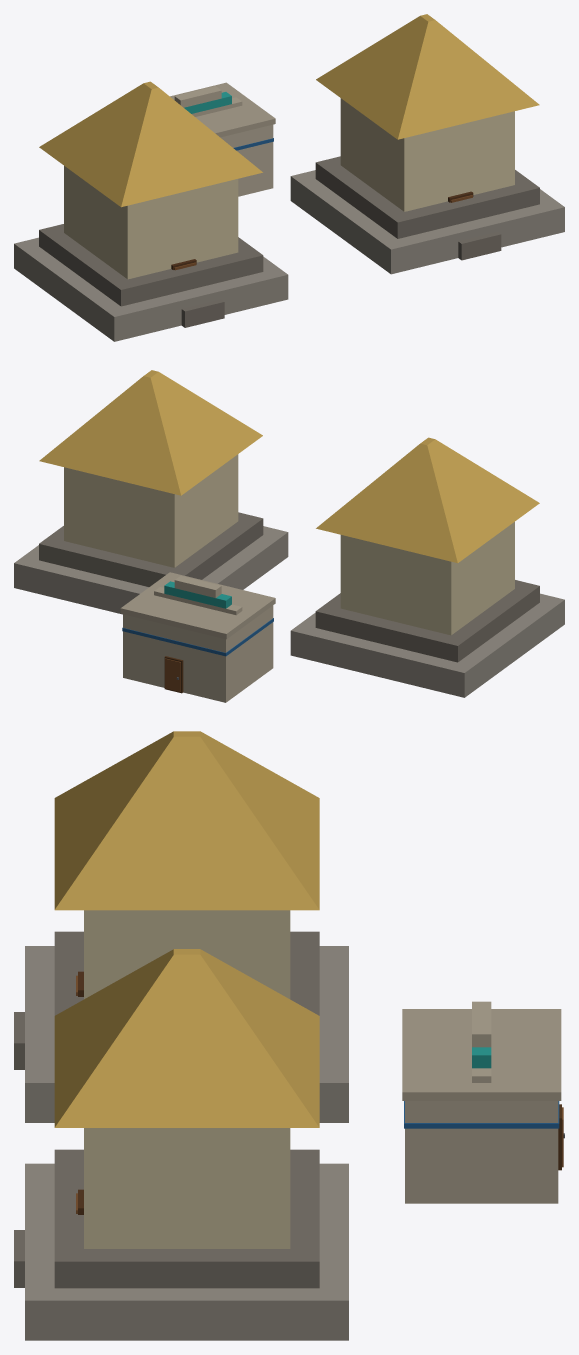
Rendered from frog_row_broken.glb.
3 views of the same model, one above another, from view 1: azimuth 30°, elevation 25°; view 2: azimuth 150°, elevation 25°; view 3: azimuth 270°, elevation 25° (orthographic). The views are drawn at different scales.
Visible parts, largest first — view 1: frog_row_piece5, frog_row_piece1, frog_row_piece6, frog_row_piece4, frog_row_piece13, frog_row_piece9, frog_row_piece10, frog_row_piece0, frog_row_piece7, frog_row_piece2, frog_row_piece8, frog_row_piece3 (+2 smaller); view 2: frog_row_piece3, frog_row_piece5, frog_row_piece2, frog_row_piece8, frog_row_piece9, frog_row_piece6, frog_row_piece7, frog_row_piece1, frog_row_piece12, frog_row_piece0, frog_row_piece13, frog_row_piece10; view 3: frog_row_piece2, frog_row_piece6, frog_row_piece1, frog_row_piece12, frog_row_piece3, frog_row_piece8, frog_row_piece10, frog_row_piece4, frog_row_piece13, frog_row_piece7, frog_row_piece5, frog_row_piece9.
Part boxes in pixels (x1,y1,x2,y2): frog_row_piece5: [27, 115, 174, 341]; frog_row_piece1: [384, 14, 553, 252]; frog_row_piece6: [91, 81, 262, 234]; frog_row_piece4: [135, 211, 287, 336]; frog_row_piece13: [384, 121, 493, 272]; frog_row_piece9: [316, 67, 432, 204]; frog_row_piece10: [228, 112, 340, 220]; frog_row_piece0: [282, 167, 398, 300]; frog_row_piece7: [337, 38, 460, 204]; frog_row_piece2: [497, 170, 564, 244]; frog_row_piece8: [170, 86, 232, 143]; frog_row_piece3: [14, 174, 73, 280]; frog_row_piece3: [290, 508, 481, 697]; frog_row_piece5: [430, 500, 564, 684]; frog_row_piece2: [14, 420, 140, 607]; frog_row_piece8: [151, 504, 345, 702]; frog_row_piece9: [129, 412, 248, 585]; frog_row_piece6: [340, 437, 534, 536]; frog_row_piece7: [93, 396, 223, 612]; frog_row_piece1: [90, 370, 197, 456]; frog_row_piece12: [120, 578, 177, 689]; frog_row_piece0: [211, 499, 288, 589]; frog_row_piece13: [223, 426, 288, 546]; frog_row_piece10: [116, 568, 222, 614]; frog_row_piece2: [25, 1024, 348, 1340]; frog_row_piece6: [54, 731, 315, 999]; frog_row_piece1: [14, 949, 287, 1291]; frog_row_piece12: [417, 1037, 563, 1203]; frog_row_piece3: [216, 780, 348, 1122]; frog_row_piece8: [282, 860, 564, 1146]; frog_row_piece10: [290, 1058, 505, 1214]; frog_row_piece4: [14, 946, 335, 1122]; frog_row_piece13: [14, 1006, 83, 1250]; frog_row_piece7: [54, 973, 348, 1234]; frog_row_piece5: [25, 765, 319, 979]; frog_row_piece9: [60, 991, 330, 1215].
Size of the model in its own units: 5.7 by 2.4 by 3.74.
